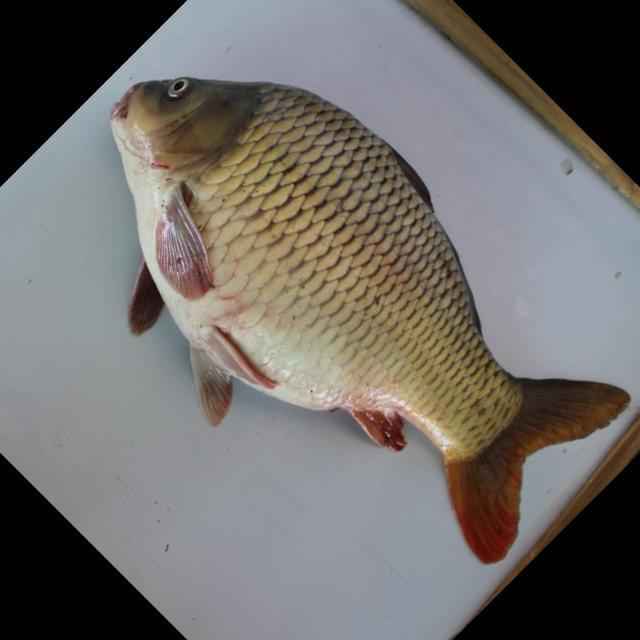CommonCarp: (101, 67, 632, 564)
